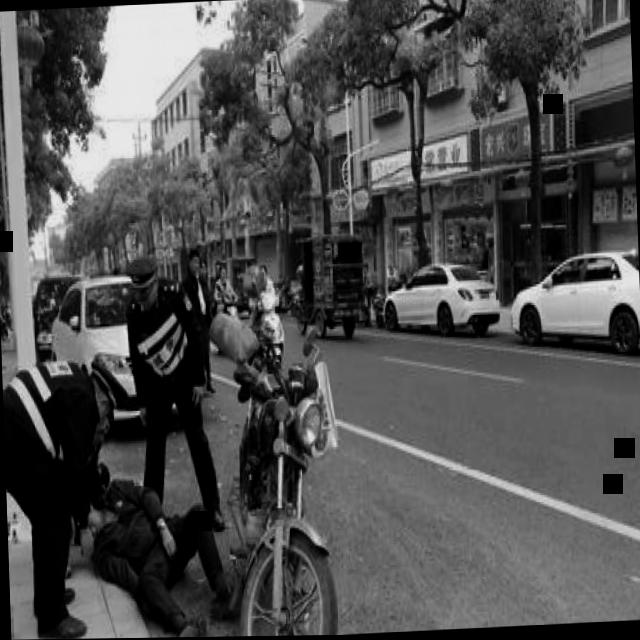Fall-Detected: (66, 450, 246, 639)
